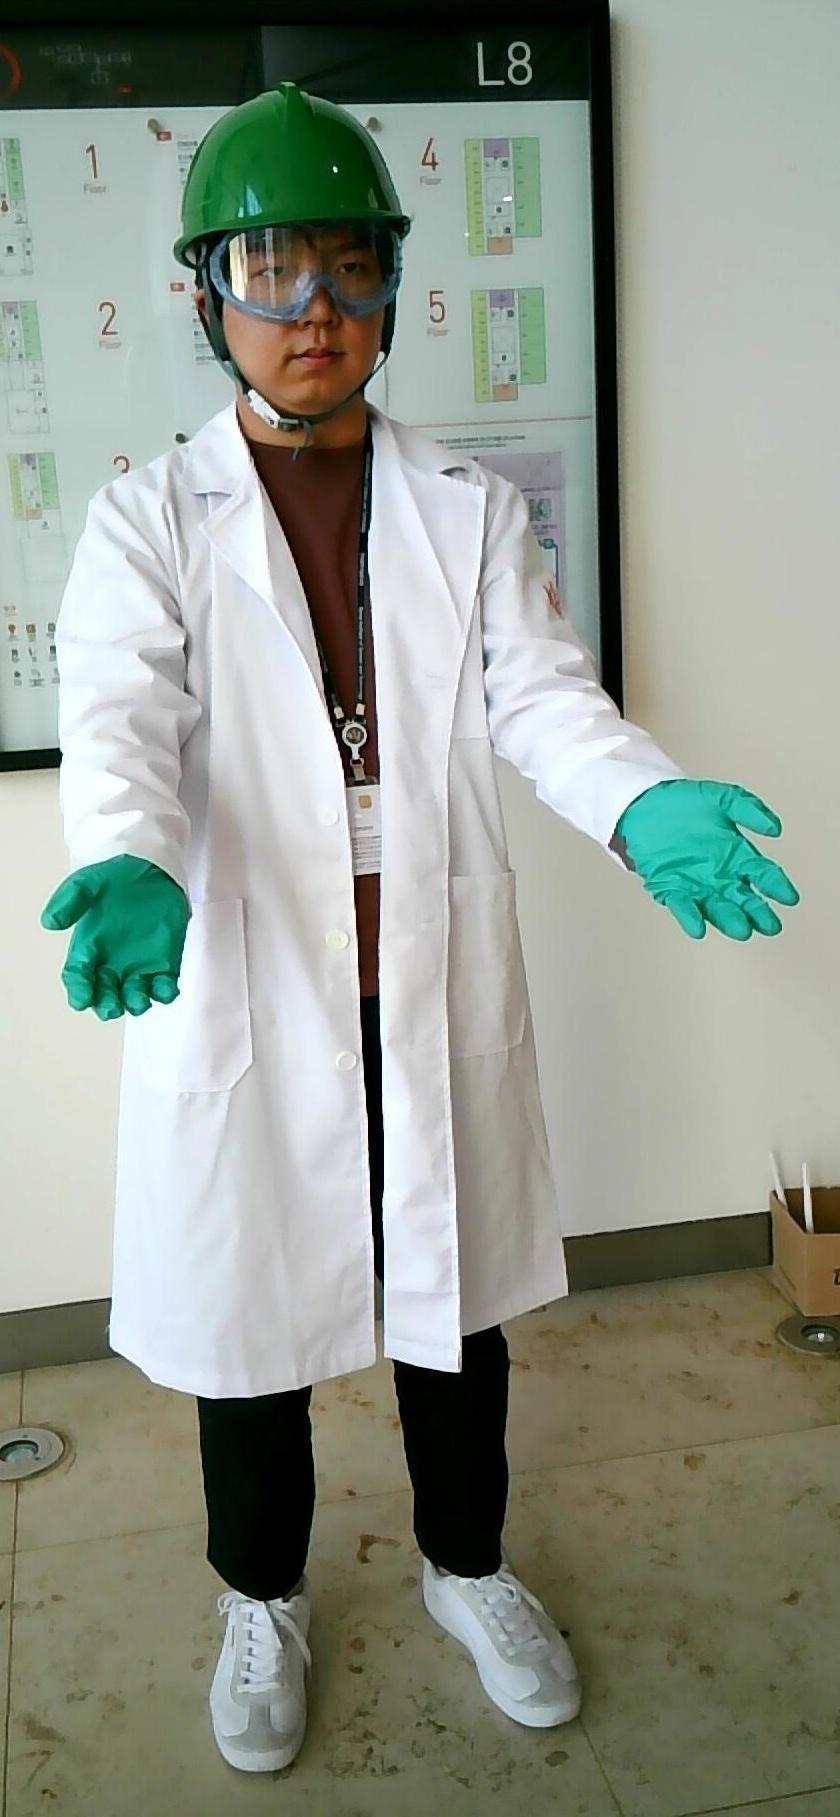lab_coat: (154, 490, 541, 1358)
